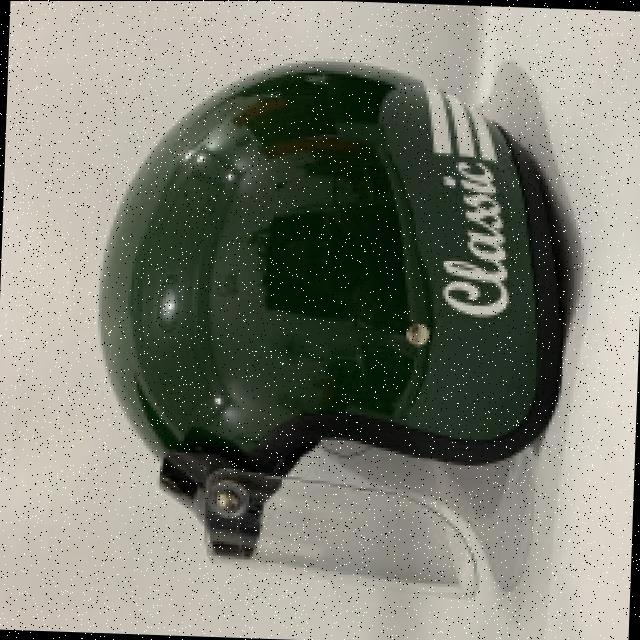Helm: (61, 43, 582, 615)
